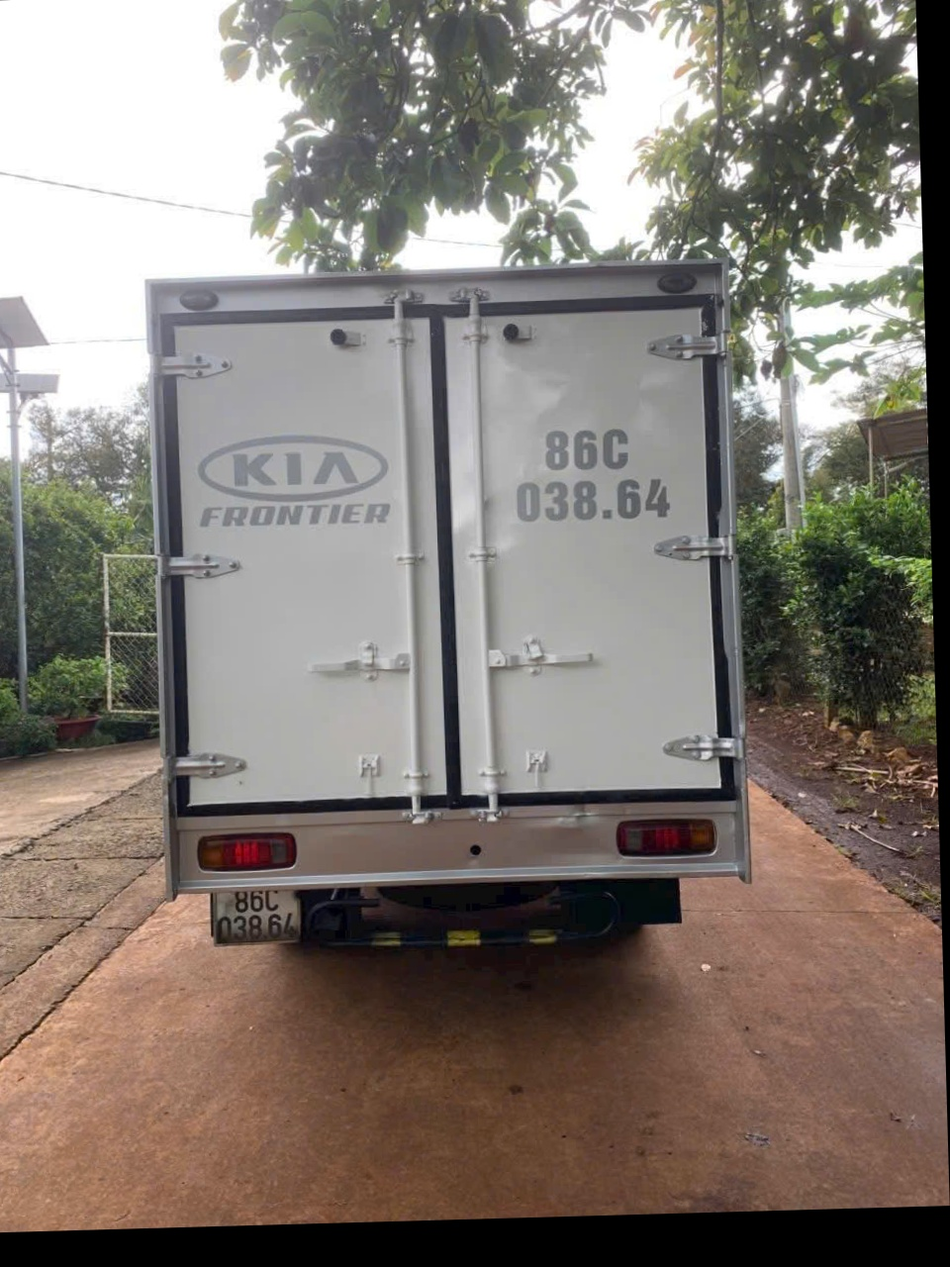Bien-so: (250, 920, 350, 995)
